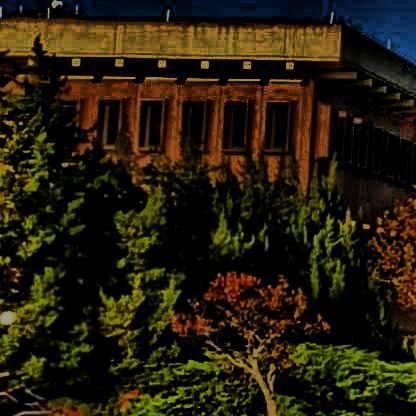golfball: (0, 306, 15, 321)
